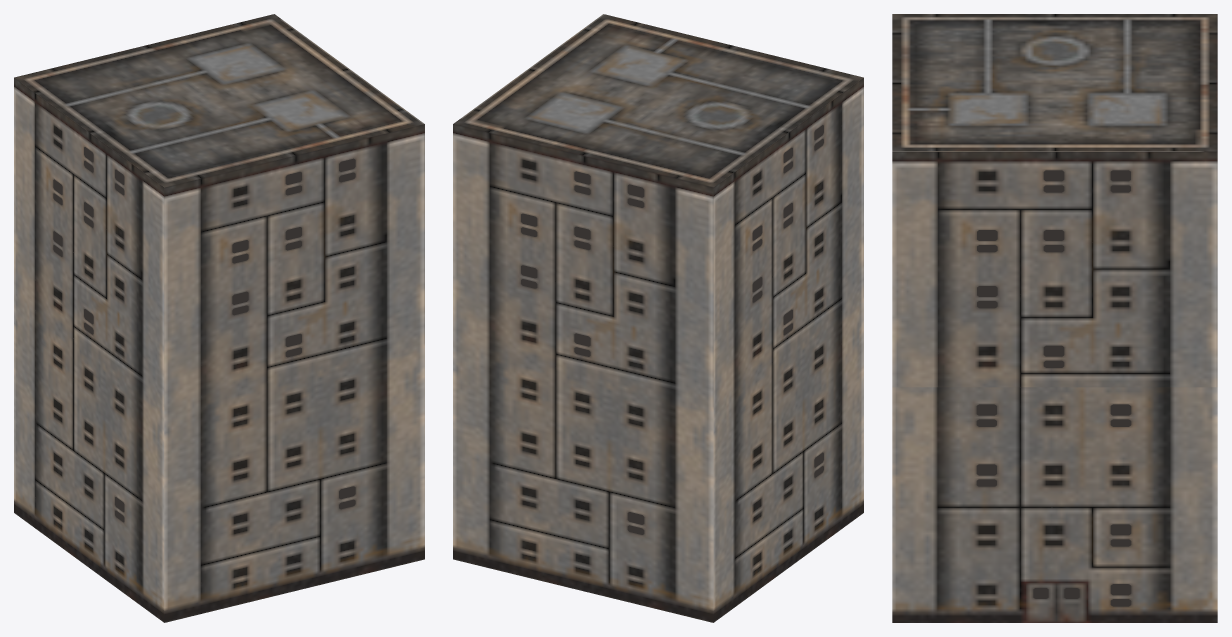
The model's file is city8storya.glb.
3 renders of one model, left to right at view 1: azimuth 30°, elevation 25°; view 2: azimuth 150°, elevation 25°; view 3: azimuth 270°, elevation 25°, orthographic. The views are drawn at different scales.
Visible parts, largest first — view 1: CityBlock8Story_A, LitWin_City8Story; view 2: CityBlock8Story_A, LitWin_City8Story; view 3: CityBlock8Story_A, LitWin_City8Story.
Part boxes in pixels (x1,y1,x2,y2): CityBlock8Story_A: (14,14,424,622); LitWin_City8Story: (53,147,355,522); CityBlock8Story_A: (453,14,863,622); LitWin_City8Story: (521,125,823,534); CityBlock8Story_A: (892,14,1217,622); LitWin_City8Story: (976,170,1131,606).
Bounding box in the file's own units: 17.76 × 28.37 × 17.76.
1 material, 1 textured.
